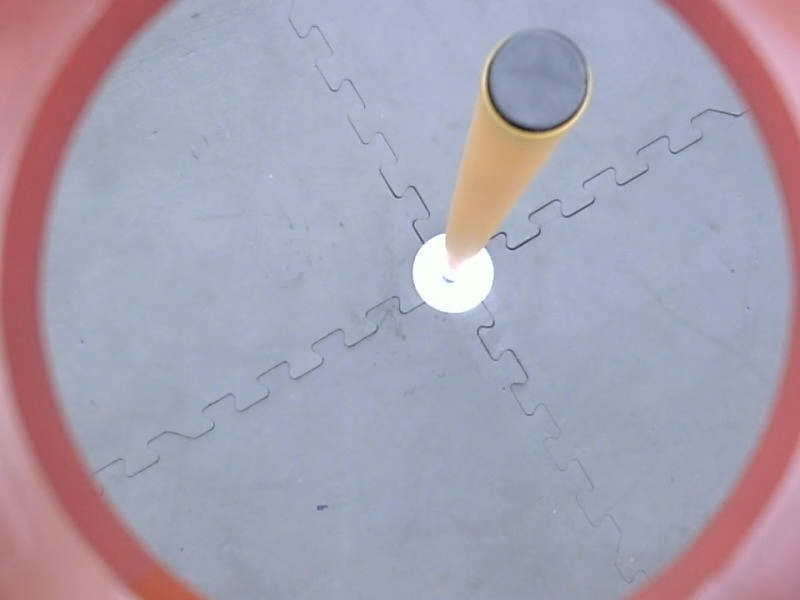tip: (476, 22, 603, 144)
